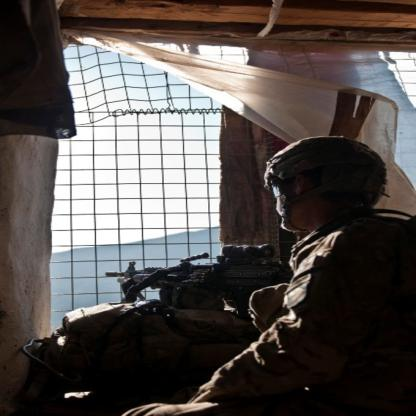Helmet: (256, 136, 386, 229)
